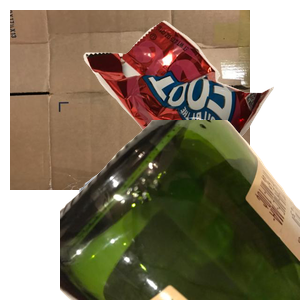cardboard: (10, 10, 250, 190)
glass: (60, 120, 300, 300)
plastic: (77, 133, 289, 300)
trash: (81, 18, 300, 182)
